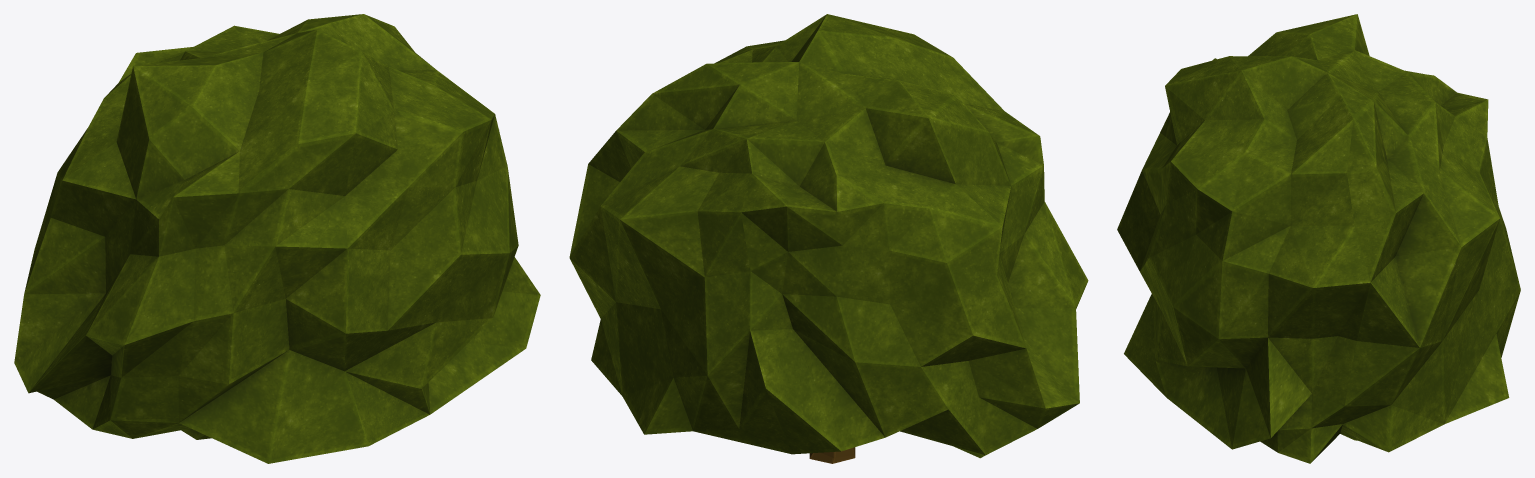
File: OakTree.gltf
3 renders of one model, left to right at view 1: azimuth 30°, elevation 25°; view 2: azimuth 150°, elevation 25°; view 3: azimuth 270°, elevation 25°, orthographic. The views are drawn at different scales.
Parts seen in each view (by area): view 1: node-0; view 2: node-0; view 3: node-0.
Part boxes in pixels (bbox=[...]): node-0: bbox=[14, 14, 540, 463]; node-0: bbox=[569, 14, 1088, 463]; node-0: bbox=[1117, 14, 1520, 463].
Size of the model in its own units: 16.1 by 13.09 by 12.42.
1 material, 1 textured.
